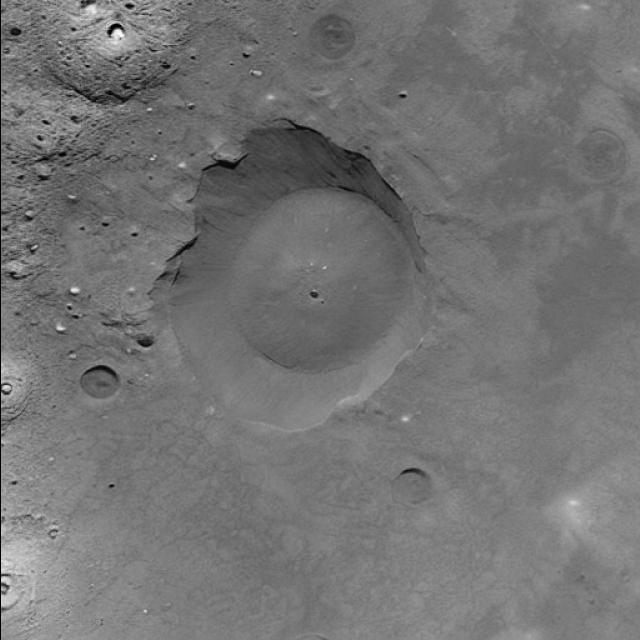crater: (154, 120, 436, 434)
